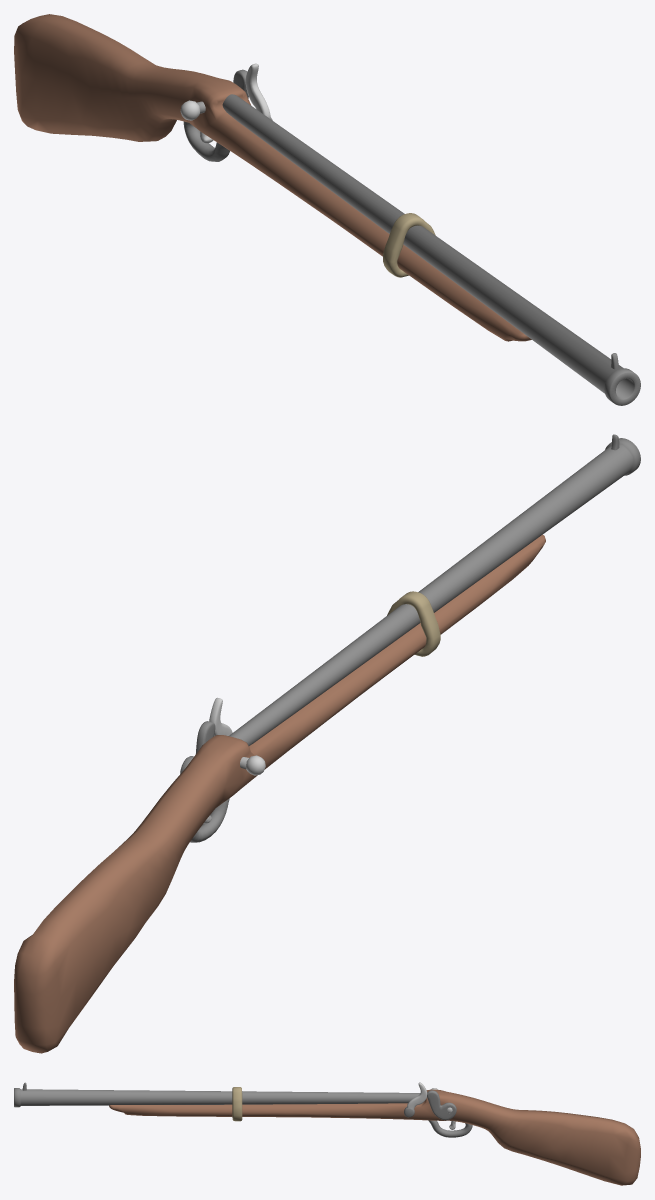
File: gun.fbx
3 views of the same model, one above another, from view 1: azimuth 30°, elevation 25°; view 2: azimuth 150°, elevation 25°; view 3: azimuth 270°, elevation 25° (orthographic). The views are drawn at different scales.
Visible parts, largest first — view 1: gun; view 2: gun; view 3: gun.
Boxes of the visible parts, x1,y1,x2,y2 form: gun: [14, 14, 640, 405]; gun: [14, 434, 640, 1053]; gun: [14, 1082, 640, 1185].
Bounding box in the file's own units: 23.46 × 68.43 × 369.
